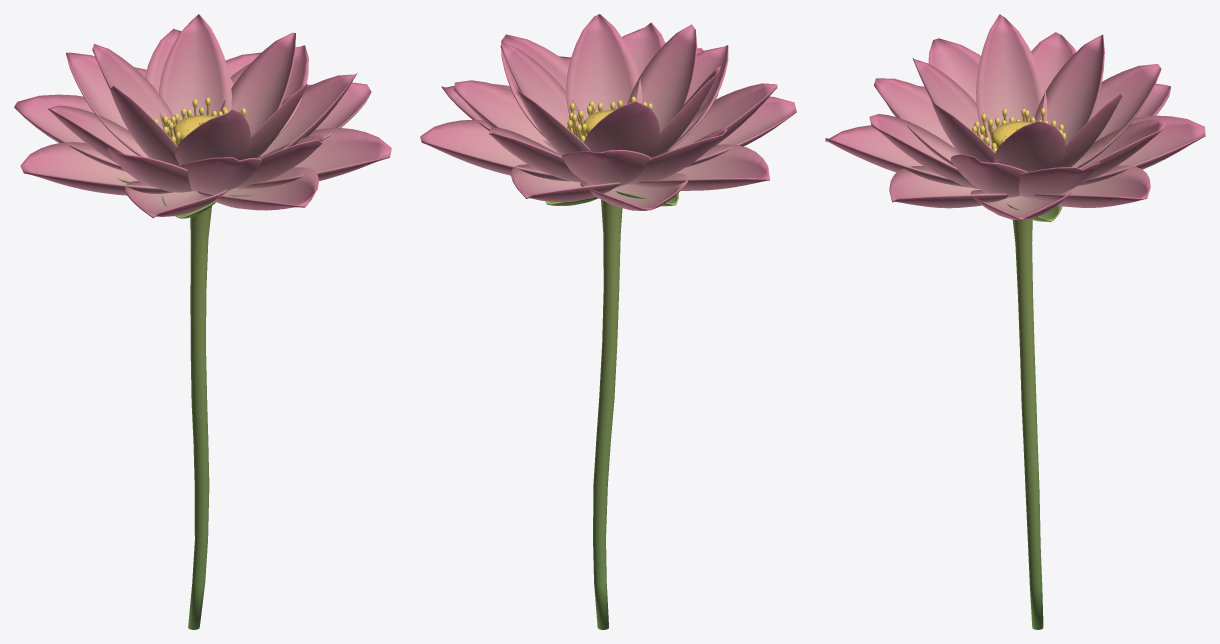
Rendered from lotus_bloom.glb.
3 renders of one model, left to right at view 1: azimuth 30°, elevation 25°; view 2: azimuth 150°, elevation 25°; view 3: azimuth 270°, elevation 25°, orthographic. The views are drawn at different scales.
Visible parts, largest first — view 1: SM_Valley_LotusBloom; view 2: SM_Valley_LotusBloom; view 3: SM_Valley_LotusBloom.
Part boxes in pixels (<box>): SM_Valley_LotusBloom: <box>14,14,391,629</box>; SM_Valley_LotusBloom: <box>420,14,796,629</box>; SM_Valley_LotusBloom: <box>825,14,1205,629</box>.
Bounding box in the file's own units: 0.3244 × 0.5313 × 0.3233.
